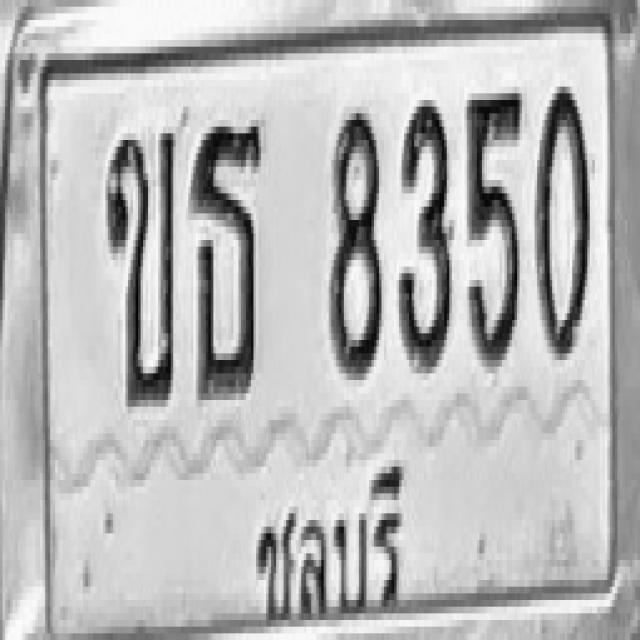0: (534, 80, 590, 360)
11KhorKhai: (104, 126, 175, 406)
3: (398, 94, 450, 374)
33ThorThong: (190, 120, 262, 400)
5: (466, 86, 520, 366)
8: (329, 103, 381, 377)
Chonburi: (246, 440, 409, 640)
